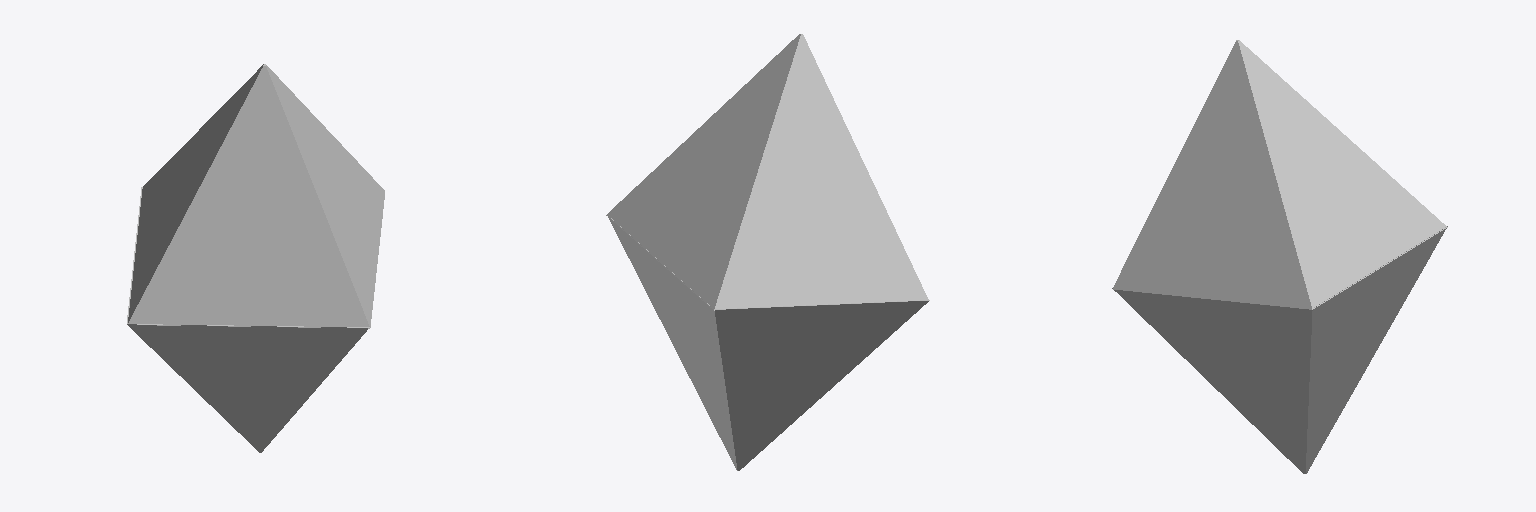
The model's file is dado8caras.obj.
3 renders of one model, left to right at view 1: azimuth 30°, elevation 25°; view 2: azimuth 150°, elevation 25°; view 3: azimuth 270°, elevation 25°, orthographic.
Visible parts, largest first — view 1: Cube, Cube.001; view 2: Cube, Cube.001; view 3: Cube, Cube.001.
Part boxes in pixels (x1,y1,x2,y2): Cube: (128, 64, 384, 328); Cube.001: (127, 187, 369, 452); Cube: (606, 34, 928, 310); Cube.001: (608, 217, 929, 470); Cube: (1113, 40, 1447, 309); Cube.001: (1112, 226, 1447, 473).
Size of the model in its own units: 2.76 by 3.8 by 2.75.